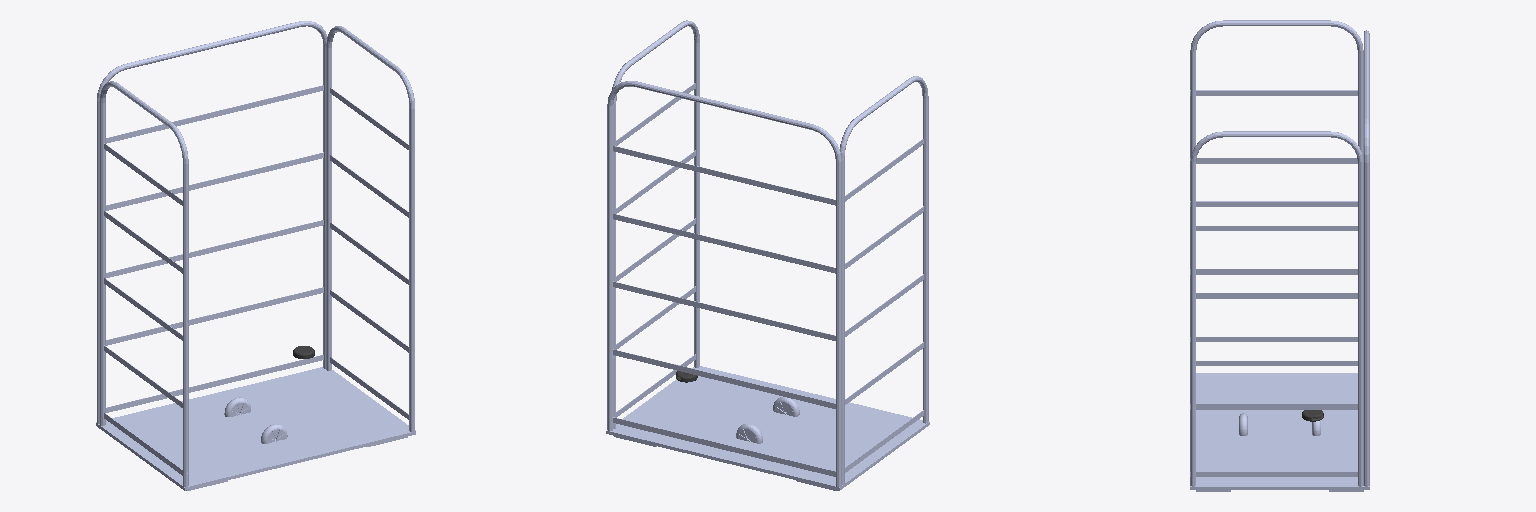
URDF robot description (minirapid1):
<?xml version="1.0" ?>
<robot name="minirapid1">
  <link name="base_link">
    <inertial>
      <origin
        xyz="0.00640831749202908 0.00226187286973015 0.0859341982829709"
        rpy="0 0 0" />
      <mass
        value="4.39662154313249" />
      <inertia
        ixx="0.0791697561558385"
        ixy="-0.00256646668517333"
        ixz="-0.0014696968337059"
        iyy="0.186325439910284"
        iyz="-0.000788647453344782"
        izz="0.23533402482209" />
    </inertial>
    <visual>
      <origin
        xyz="0 0 0"
        rpy="0 0 0" />
      <geometry>
        <mesh
          filename="package://minirapid1/meshes/base_link.STL" />
      </geometry>
      <material
        name="">
        <color
          rgba="0.792156862745098 0.819607843137255 0.933333333333333 1" />
      </material>
    </visual>
    <collision>
      <origin
        xyz="0 0 0"
        rpy="0 0 0" />
      <geometry>
        <mesh
          filename="package://minirapid1/meshes/base_link.STL" />
      </geometry>
    </collision>
  </link>

  <link name="left_wheel_link">
    <inertial>
      <origin
        xyz="-1.11022302462516E-15 -0.0305000000000009 -0.000522969789136768"
        rpy="0 0 0" />
      <mass
        value="0.149150016733407" />
      <inertia
        ixx="0.000103004096524672"
        ixy="4.38599642468359E-19"
        ixz="2.59227726020217E-19"
        iyy="0.000183918976866177"
        iyz="-3.56451784210186E-19"
        izz="0.000103004096524671" />
    </inertial>
    <visual>
      <origin
        xyz="0 0 0"
        rpy="0 0 0" />
      <geometry>
        <mesh
          filename="package://minirapid1/meshes/left_wheel_link.STL" />
      </geometry>
      <material
        name="">
        <color
          rgba="0.792156862745098 0.819607843137255 0.933333333333333 1" />
      </material>
    </visual>
    <collision>
      <origin
        xyz="0 0 0"
        rpy="0 0 0" />
      <geometry>
        <mesh
          filename="package://minirapid1/meshes/left_wheel_link.STL" />
      </geometry>
    </collision>
  </link>

  <joint name="left_wheel_joint" type="continuous">
    <origin
      xyz="0 0.153 0.019926"
      rpy="0 0 0" />
    <parent
      link="base_link" />
    <child
      link="left_wheel_link" />
    <axis
      xyz="0 1 0" />
  </joint>

  <link name="right_wheel_link">
    <inertial>
      <origin
        xyz="-7.7715611723761E-16 0.0305000000000009 -0.000522969789136771"
        rpy="0 0 0" />
      <mass
        value="0.149150016733407" />
      <inertia
        ixx="0.000103004096524672"
        ixy="-1.28084450377781E-19"
        ixz="-2.60951883342545E-19"
        iyy="0.000183918976866177"
        iyz="3.46896913361451E-19"
        izz="0.000103004096524671" />
    </inertial>
    <visual>
      <origin
        xyz="0 0 0"
        rpy="0 0 0" />
      <geometry>
        <mesh
          filename="package://minirapid1/meshes/right_wheel_link.STL" />
      </geometry>
      <material
        name="">
        <color
          rgba="0.792156862745098 0.819607843137255 0.933333333333333 1" />
      </material>
    </visual>
    <collision>
      <origin
        xyz="0 0 0"
        rpy="0 0 0" />
      <geometry>
        <mesh
          filename="package://minirapid1/meshes/right_wheel_link.STL" />
      </geometry>
    </collision>
  </link>

  <joint name="right_wheel_joint" type="continuous">
    <origin
      xyz="0 -0.153 0.019926"
      rpy="0 0 0" />
    <parent
      link="base_link" />
    <child
      link="right_wheel_link" />
    <axis
      xyz="0 1 0" />
  </joint>

  <link name="laser">
    <inertial>
      <origin
        xyz="-0.00105134047928768 -0.000900283053485745 -0.0102612743782634"
        rpy="0 0 0" />
      <mass
        value="0.0764074110658063" />
      <inertia
        ixx="2.6442911831536E-05"
        ixy="1.09596059550054E-06"
        ixz="1.77367768412782E-08"
        iyy="2.59904733259173E-05"
        iyz="1.44000295483743E-08"
        izz="4.72874256940087E-05" />
    </inertial>
    <visual>
      <origin
        xyz="0 0 0"
        rpy="0 0 0" />
      <geometry>
        <mesh
          filename="package://minirapid1/meshes/rplidar_link.STL" />
      </geometry>
      <material
        name="">
        <color
          rgba="0.309803921568627 0.309803921568627 0.309803921568627 1" />
      </material>
    </visual>
    <collision>
      <origin
        xyz="0 0 0"
        rpy="0 0 0" />
      <geometry>
        <mesh
          filename="package://minirapid1/meshes/rplidar_link.STL" />
      </geometry>
    </collision>
  </link>

  <joint name="rplidar_joint" type="continuous">
    <origin
      xyz="0.24997 0.11002 0.19565"
      rpy="0 0 0" />
    <parent
      link="base_link" />
    <child
      link="laser" />
    <axis
      xyz="0 0 1" />
  </joint>

  <joint name="imu_joint" type="fixed">
    <parent link="base_link"/>
    <child link="imu_link"/>
    <origin xyz="0.0 0 0.088" rpy="0 0 0"/>
  </joint>
  <link name="imu_link"/> 

  <!-- Camera Center -->
  <joint name="zed_camera_center_joint" type="fixed">
      <parent link="base_link"/>
      <child link="zed_camera_center"/>
      <origin xyz="0.0 0.0 0.05" rpy="0.0 1.57 0.0" />
  </joint>

  <link name="zed_camera_center">
      <visual>
          <origin xyz="0 0 0" rpy="0 0 0"/>
          <geometry>
              <mesh filename="package://zed_wrapper/urdf/models/zed.stl" />
          </geometry>
          <material name="" />
      </visual>
  </link>

  <!-- Left Camera -->
  <joint name="zed_left_camera_joint" type="fixed">
      <parent link="zed_camera_center"/>
      <child link="zed_left_camera_frame"/>
      <origin xyz="0 0.06 0" rpy="0 0 0" />
  </joint>

  <link name="zed_left_camera_frame" />

  <joint name="zed_left_camera_optical_joint" type="fixed">
      <origin xyz="0 0 0" rpy="-1.57 0.0 -1.57"/>
      <parent link="zed_left_camera_frame"/>
      <child link="zed_left_camera_optical_frame"/>
  </joint>

  <link name="zed_left_camera_optical_frame"/>

  <!-- Right Camera -->
  <joint name="zed_right_camera_joint" type="fixed">
      <parent link="zed_camera_center"/>
      <child link="zed_right_camera_frame"/>
      <origin xyz="0 -0.06 0" rpy="0 0 0" />
  </joint>

  <link name="zed_right_camera_frame" />

  <joint name="zed_right_camera_optical_joint" type="fixed">
      <origin xyz="0 0 0" rpy="-1.57 0.0 -1.57"/>
      <parent link="zed_right_camera_frame"/>
      <child link="zed_right_camera_optical_frame"/>
  </joint>

  <link name="zed_right_camera_optical_frame"/>

</robot>

--- What the picture shows (computed from the rendered views, not written in the file) ---
3 views of the same robot in one strip: view 1: azimuth 30°, elevation 25°; view 2: azimuth 150°, elevation 25°; view 3: azimuth 270°, elevation 25° (orthographic).
Robot: minirapid1 — 10 links, 9 joints (3 continuous, 6 fixed); root link base_link; default pose: all joints at 0.
Visible links, largest first — view 1: base_link; view 2: base_link; view 3: base_link.
Boxes of the visible links, box(x1,y1,x2,y2) form: base_link: box(96, 21, 415, 490); base_link: box(606, 20, 929, 490); base_link: box(1190, 20, 1369, 491).
Bounding box of the posed robot: 0.9 × 0.6 × 1.35 m (x, y, z).
4 mesh visuals loaded from 5 distinct referenced files (4 binary STL); not drawn: 1 (reference not matched to a file when rendering).